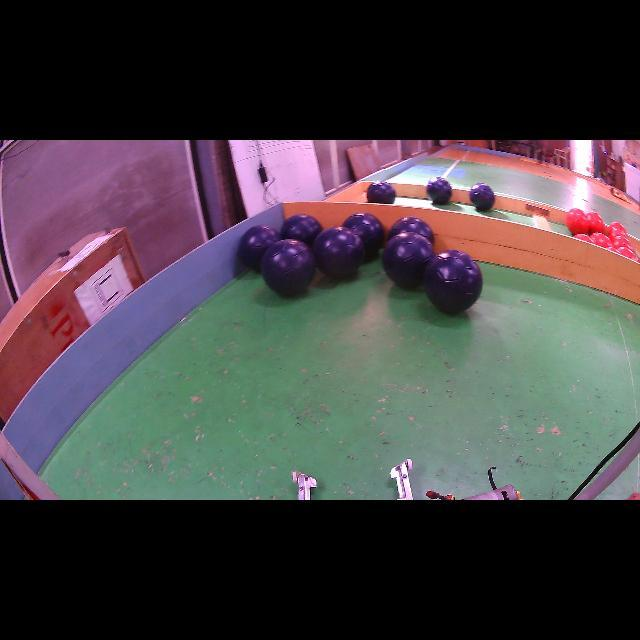B: (424, 250, 482, 314), (261, 239, 316, 295), (382, 232, 434, 289), (312, 226, 365, 279), (342, 212, 384, 259), (238, 225, 281, 270), (280, 214, 322, 246), (388, 216, 434, 244), (469, 182, 495, 211), (366, 181, 396, 204), (426, 178, 452, 204)
R: (566, 208, 590, 235), (586, 211, 605, 233), (590, 232, 612, 248), (610, 221, 628, 238), (611, 236, 632, 250), (618, 246, 636, 260), (574, 234, 594, 244)
